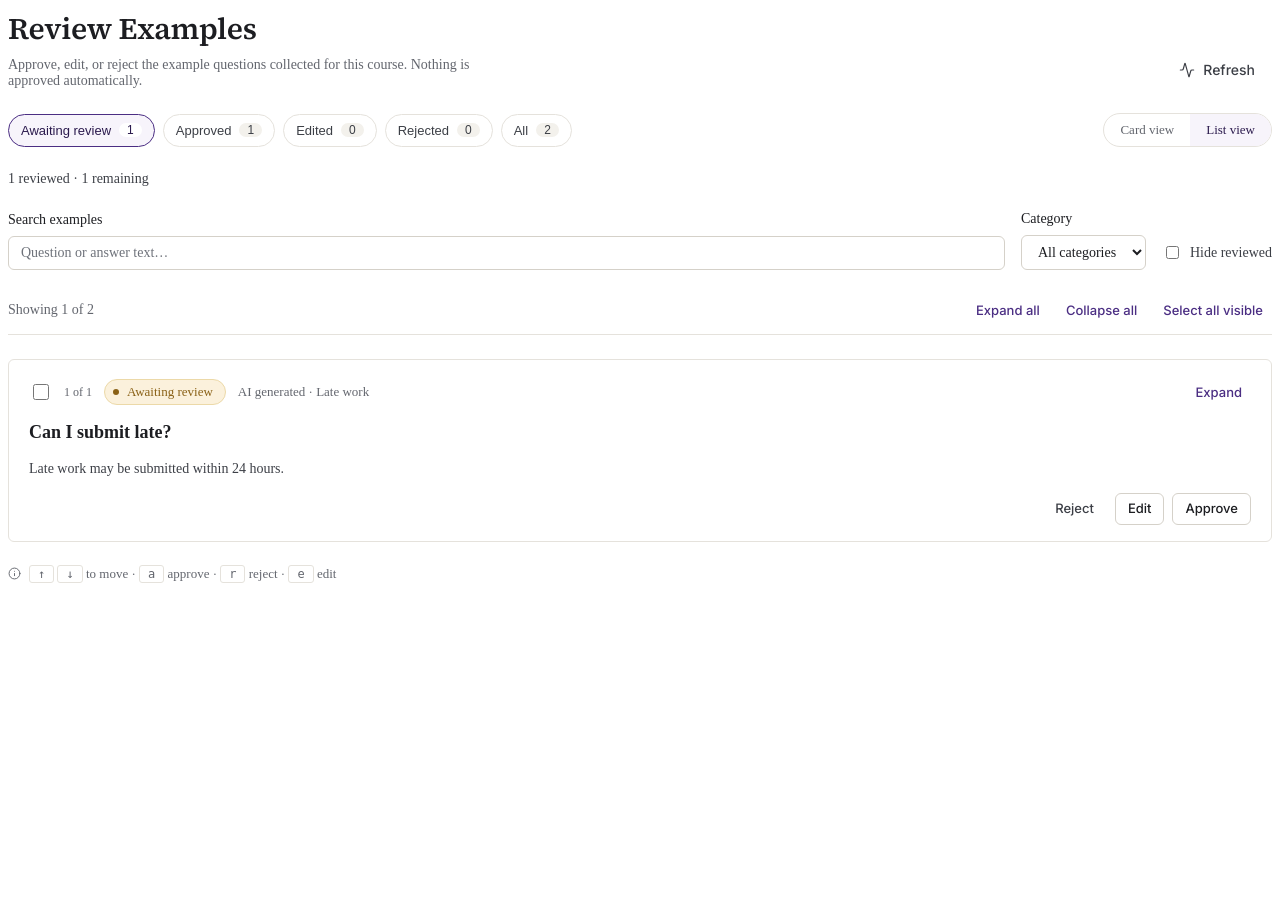
it: ReviewExamplesPage › filters by approved status
The image size is (1280, 900).
Expected: the text "Can I submit late?" is shown, [29, 422, 172, 442]
Step 1. Click the button "Card view" → (1147, 130), box [1104, 114, 1190, 146]
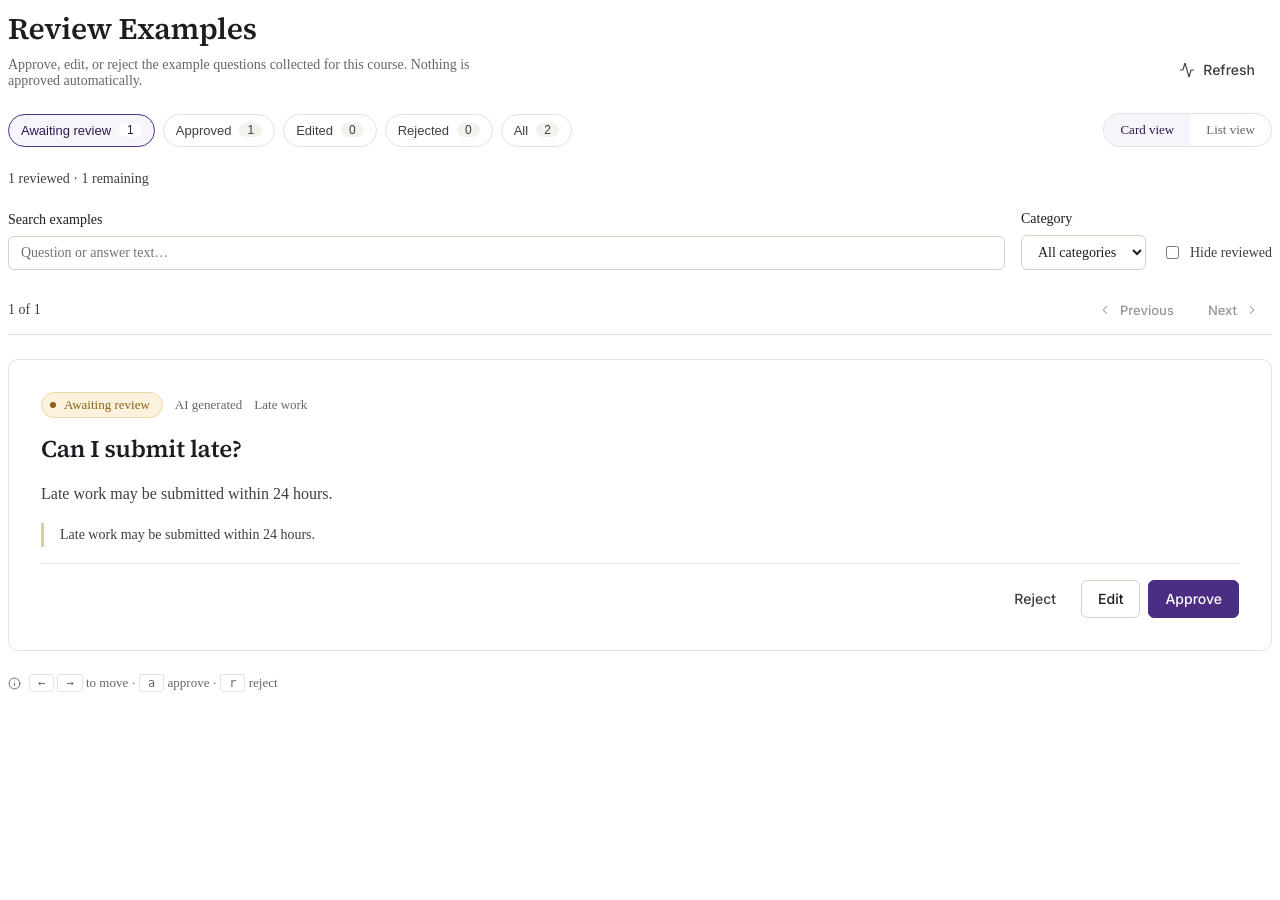
Expected: the text "1 of 1" is shown, [8, 302, 41, 318]
Step 2. Click the tab "Approved 1" → (219, 130), box [163, 114, 275, 146]
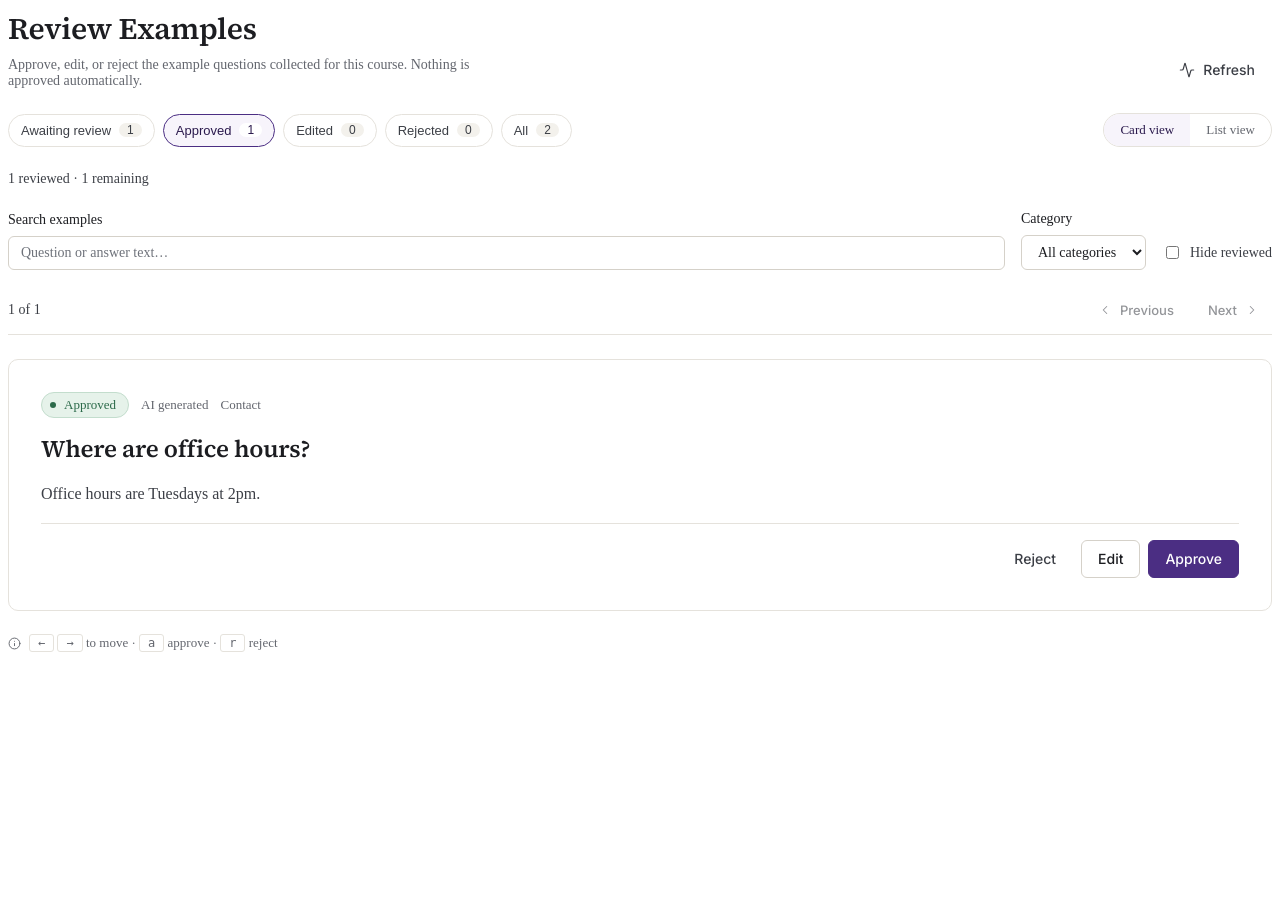
Expected: the text "1 of 1" is shown, [8, 302, 41, 318]
Expected: the heading "Can I submit late?" is gone
Expected: the heading "Where are office hours?" is shown, [41, 432, 310, 465]
